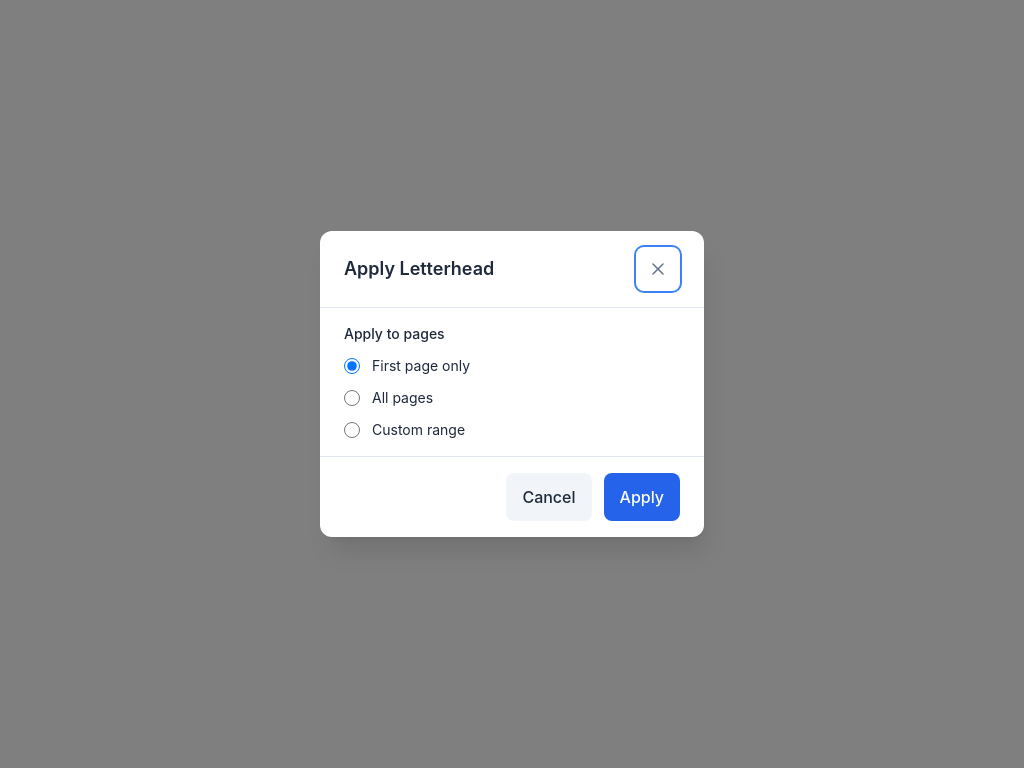
Test: LetterheadApplyModal › shows validation error for invalid custom range
Click the radio button labelled "Custom range" at (352, 430), box [344, 422, 360, 438]
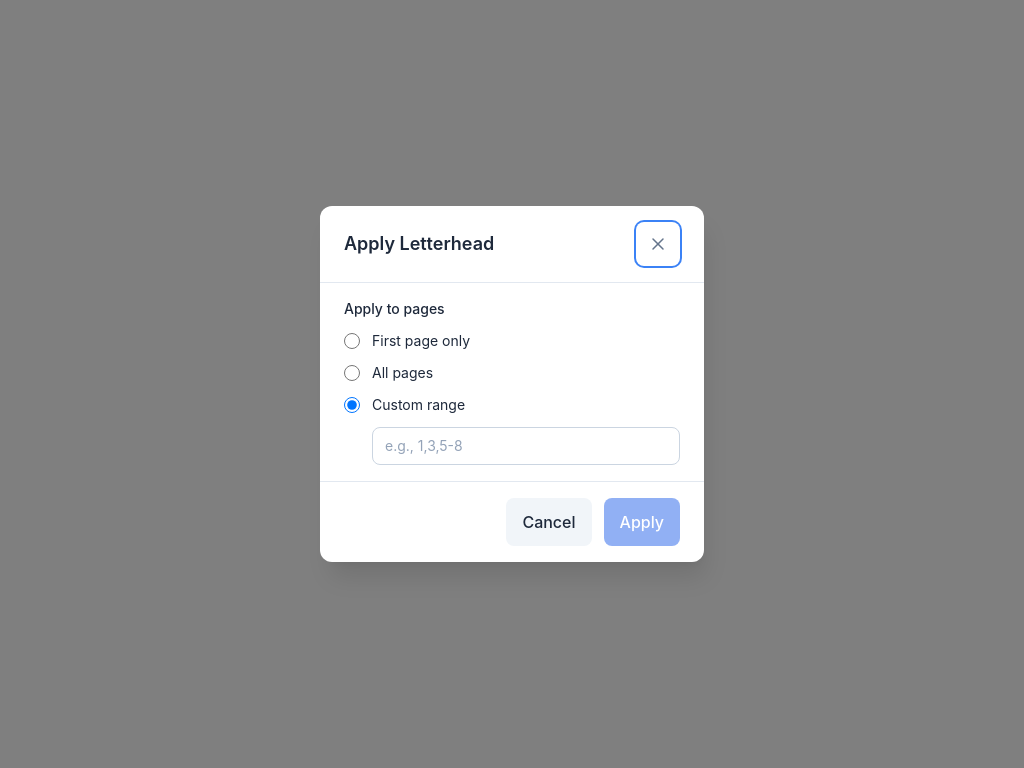
Type "abc" into the field with placeholder "e.g., 1,3,5-8" at (526, 446), box [372, 427, 680, 465]
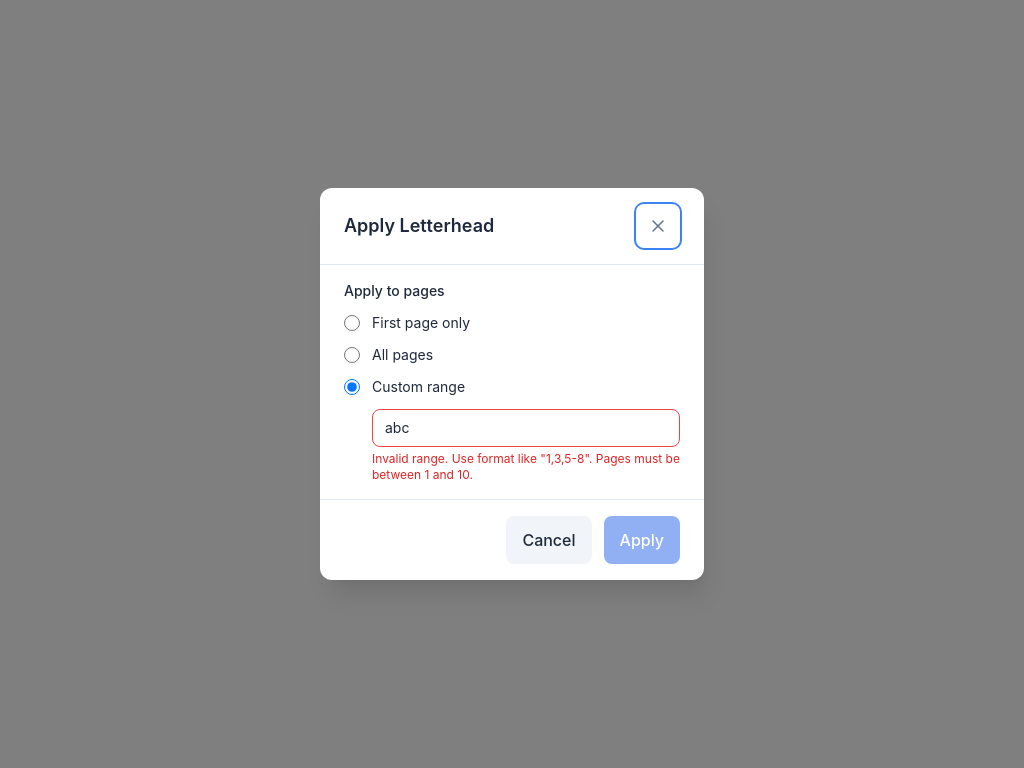
Expected: the message "Invalid range. Use format like \"1,3,5-8\". Pages must be between 1 and 10." is shown, [372, 451, 680, 483]
